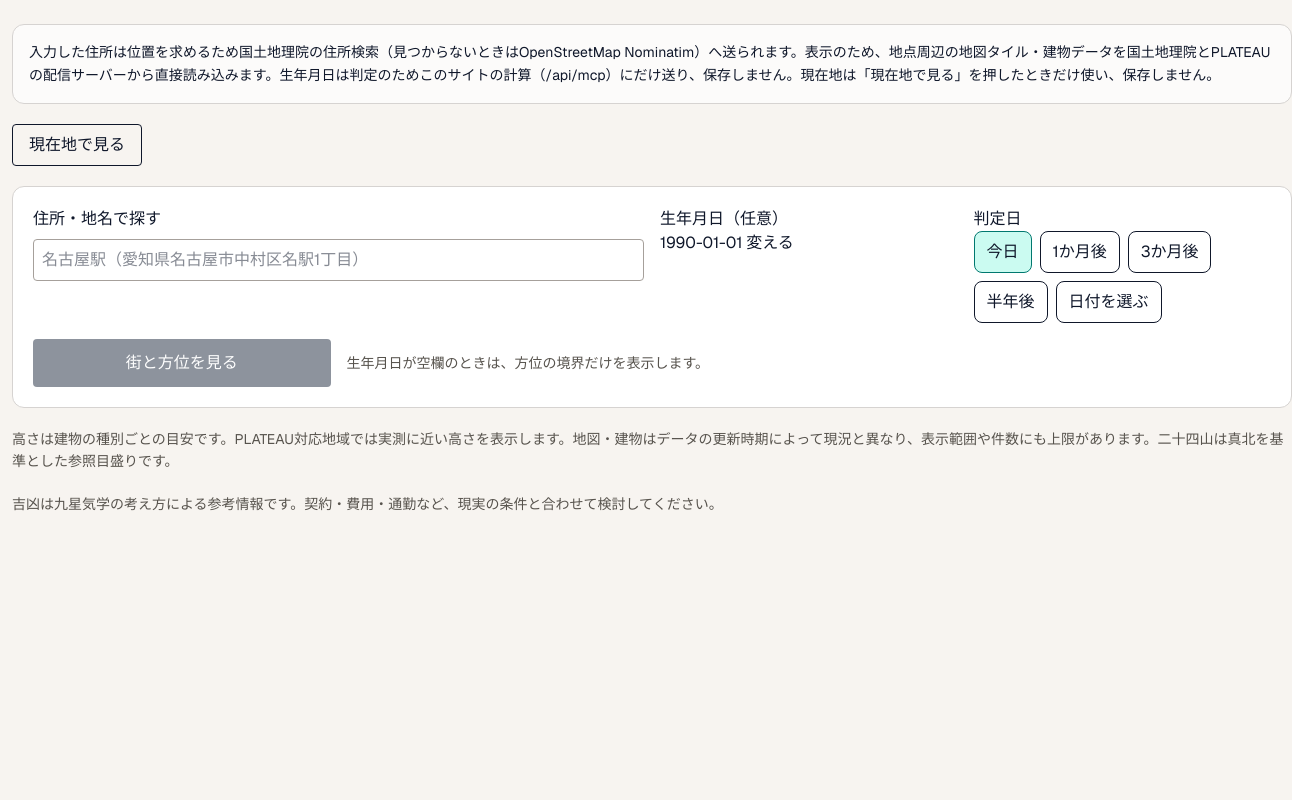
Test case: 街の表示を入力せずに始める › 遅いアカウント応答で利用者の選択を上書きしない
Click the button "変える" at coordinates (770, 242), box [746,230,794,254]
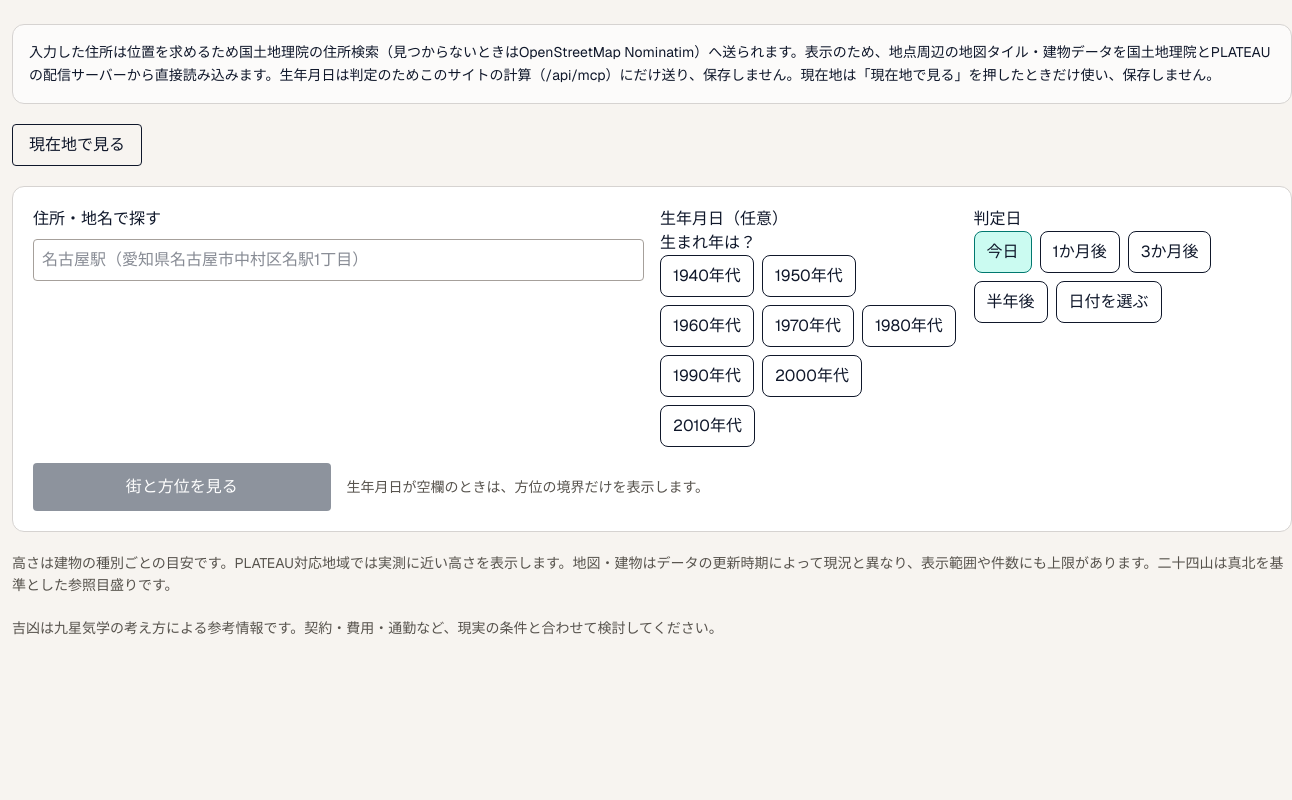
Expected: the text "生まれ年は？" is shown, [660,230,756,254]
